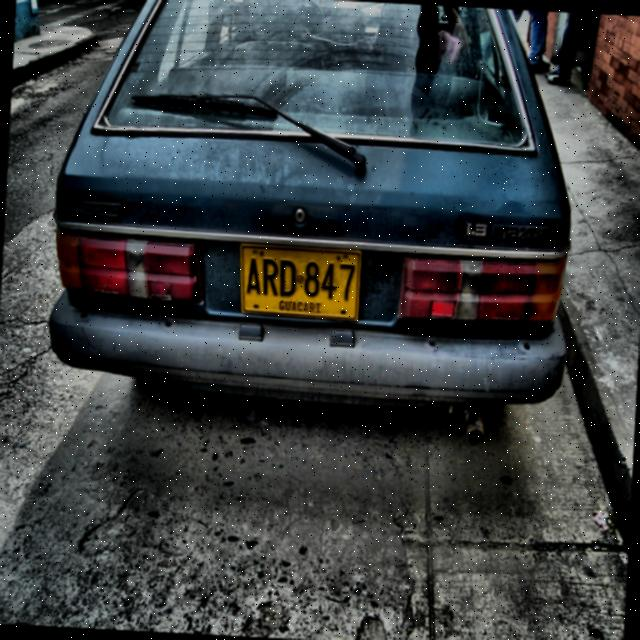plate: (240, 244, 361, 321)
